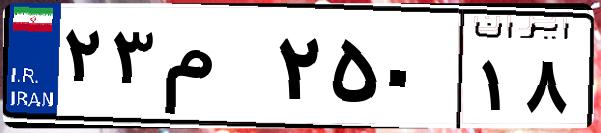0: (385, 28, 445, 110)
1: (475, 38, 525, 113)
2: (270, 28, 330, 110), (57, 26, 110, 100)
3: (110, 28, 158, 98)
5: (330, 28, 385, 110)
8: (525, 38, 570, 115)
م: (158, 20, 270, 120)
